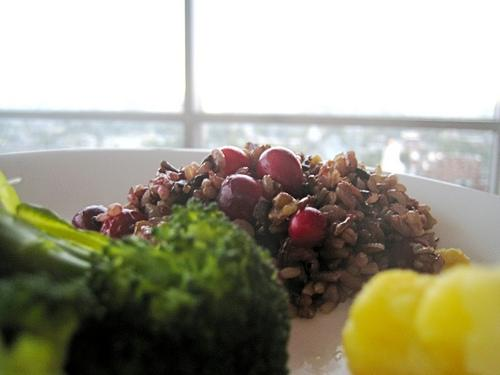broccoli: (1, 170, 290, 374), (0, 212, 271, 374)
grape: (215, 174, 267, 226), (256, 146, 304, 200), (288, 206, 328, 249), (100, 208, 148, 238), (218, 146, 250, 178), (72, 204, 108, 232), (232, 218, 256, 239)
